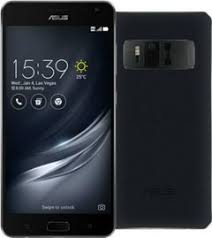asus: (1, 1, 119, 236)
